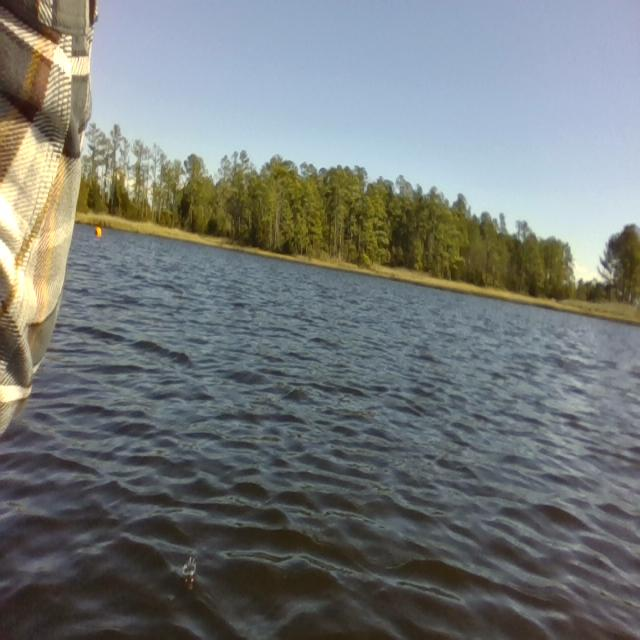Buoy: (90, 222, 106, 244)
